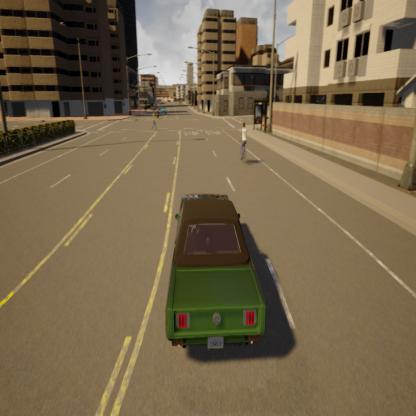Cars: (143, 176, 270, 362), (159, 104, 167, 116)
Pedestrian: (149, 109, 158, 132)
